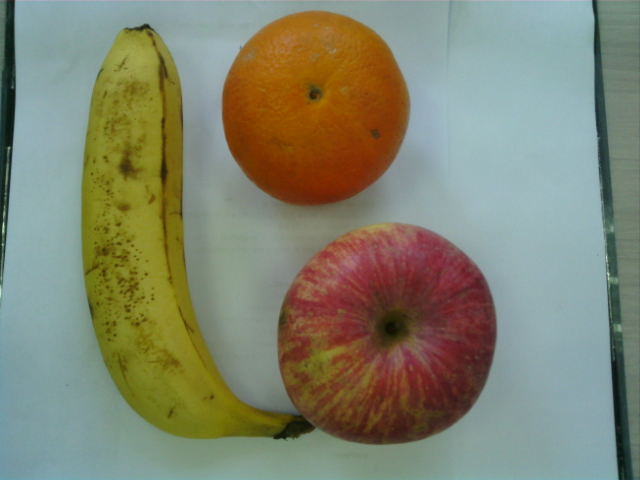normal_apple: (277, 221, 500, 446)
normal_banana: (80, 22, 277, 445)
normal_orange: (221, 9, 411, 205)
